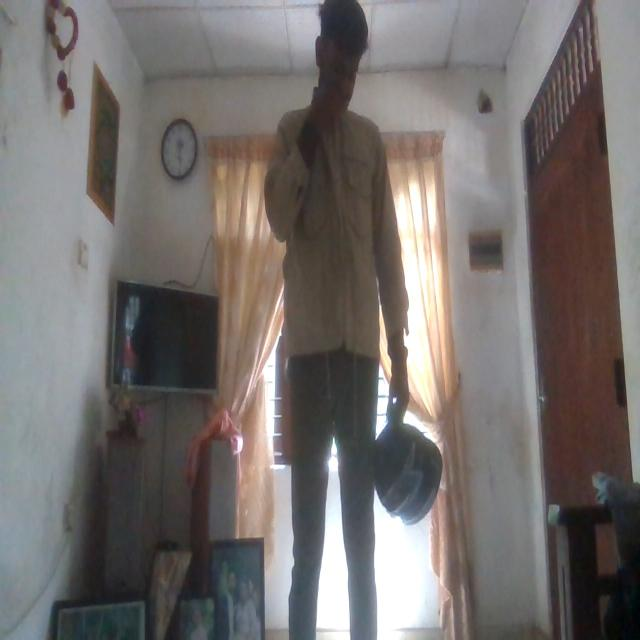Jacket_Wearer: (270, 92, 416, 370)
Person: (267, 0, 413, 634)
